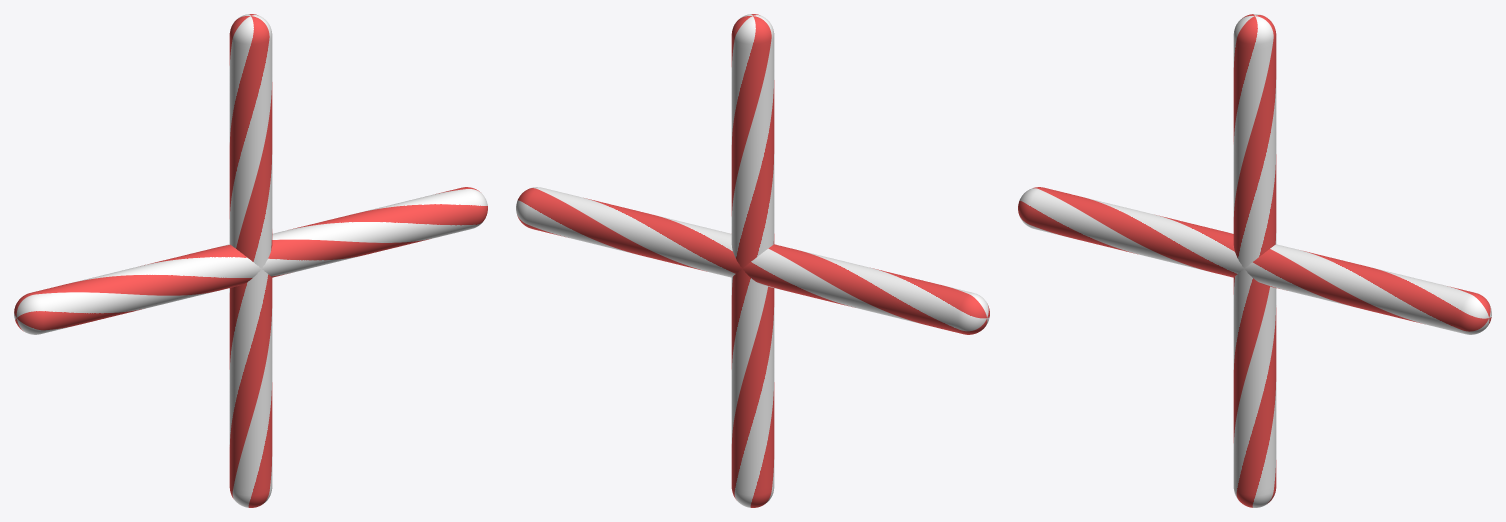
Rendered from pipe3_0.gltf.
3 renders of one model, left to right at view 1: azimuth 30°, elevation 25°; view 2: azimuth 150°, elevation 25°; view 3: azimuth 330°, elevation 25°, orthographic.
Parts seen in each view (by area): view 1: Capsule (×2); view 2: Capsule (×2); view 3: Capsule (×2).
Part boxes in pixels (<box>): Capsule (×2): <box>14,14,487,507</box>; Capsule (×2): <box>516,14,989,507</box>; Capsule (×2): <box>1018,14,1491,507</box>.
Size of the model in its own units: 0.279 by 0.279 by 0.022.
1 material, 1 textured.
